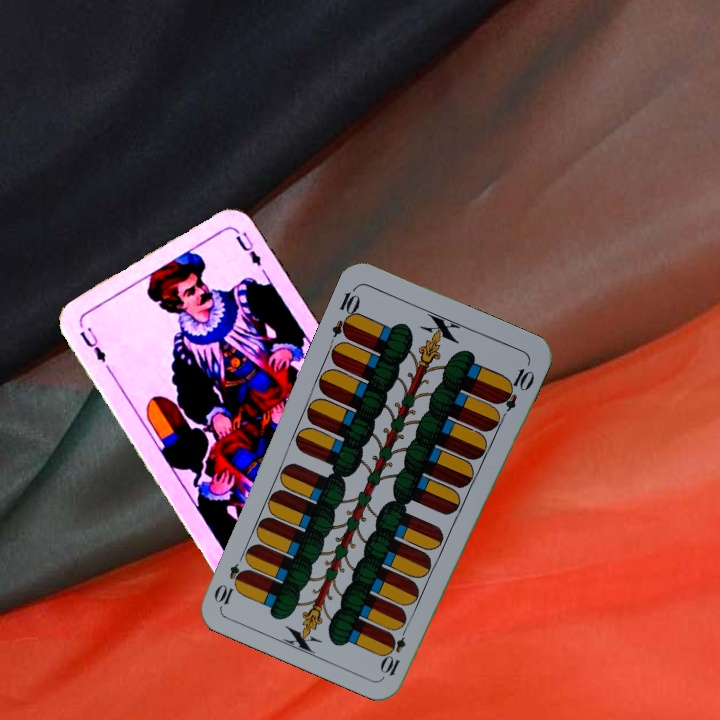E10: (328, 283, 363, 342), (378, 621, 411, 679)
EU: (75, 324, 109, 365)
